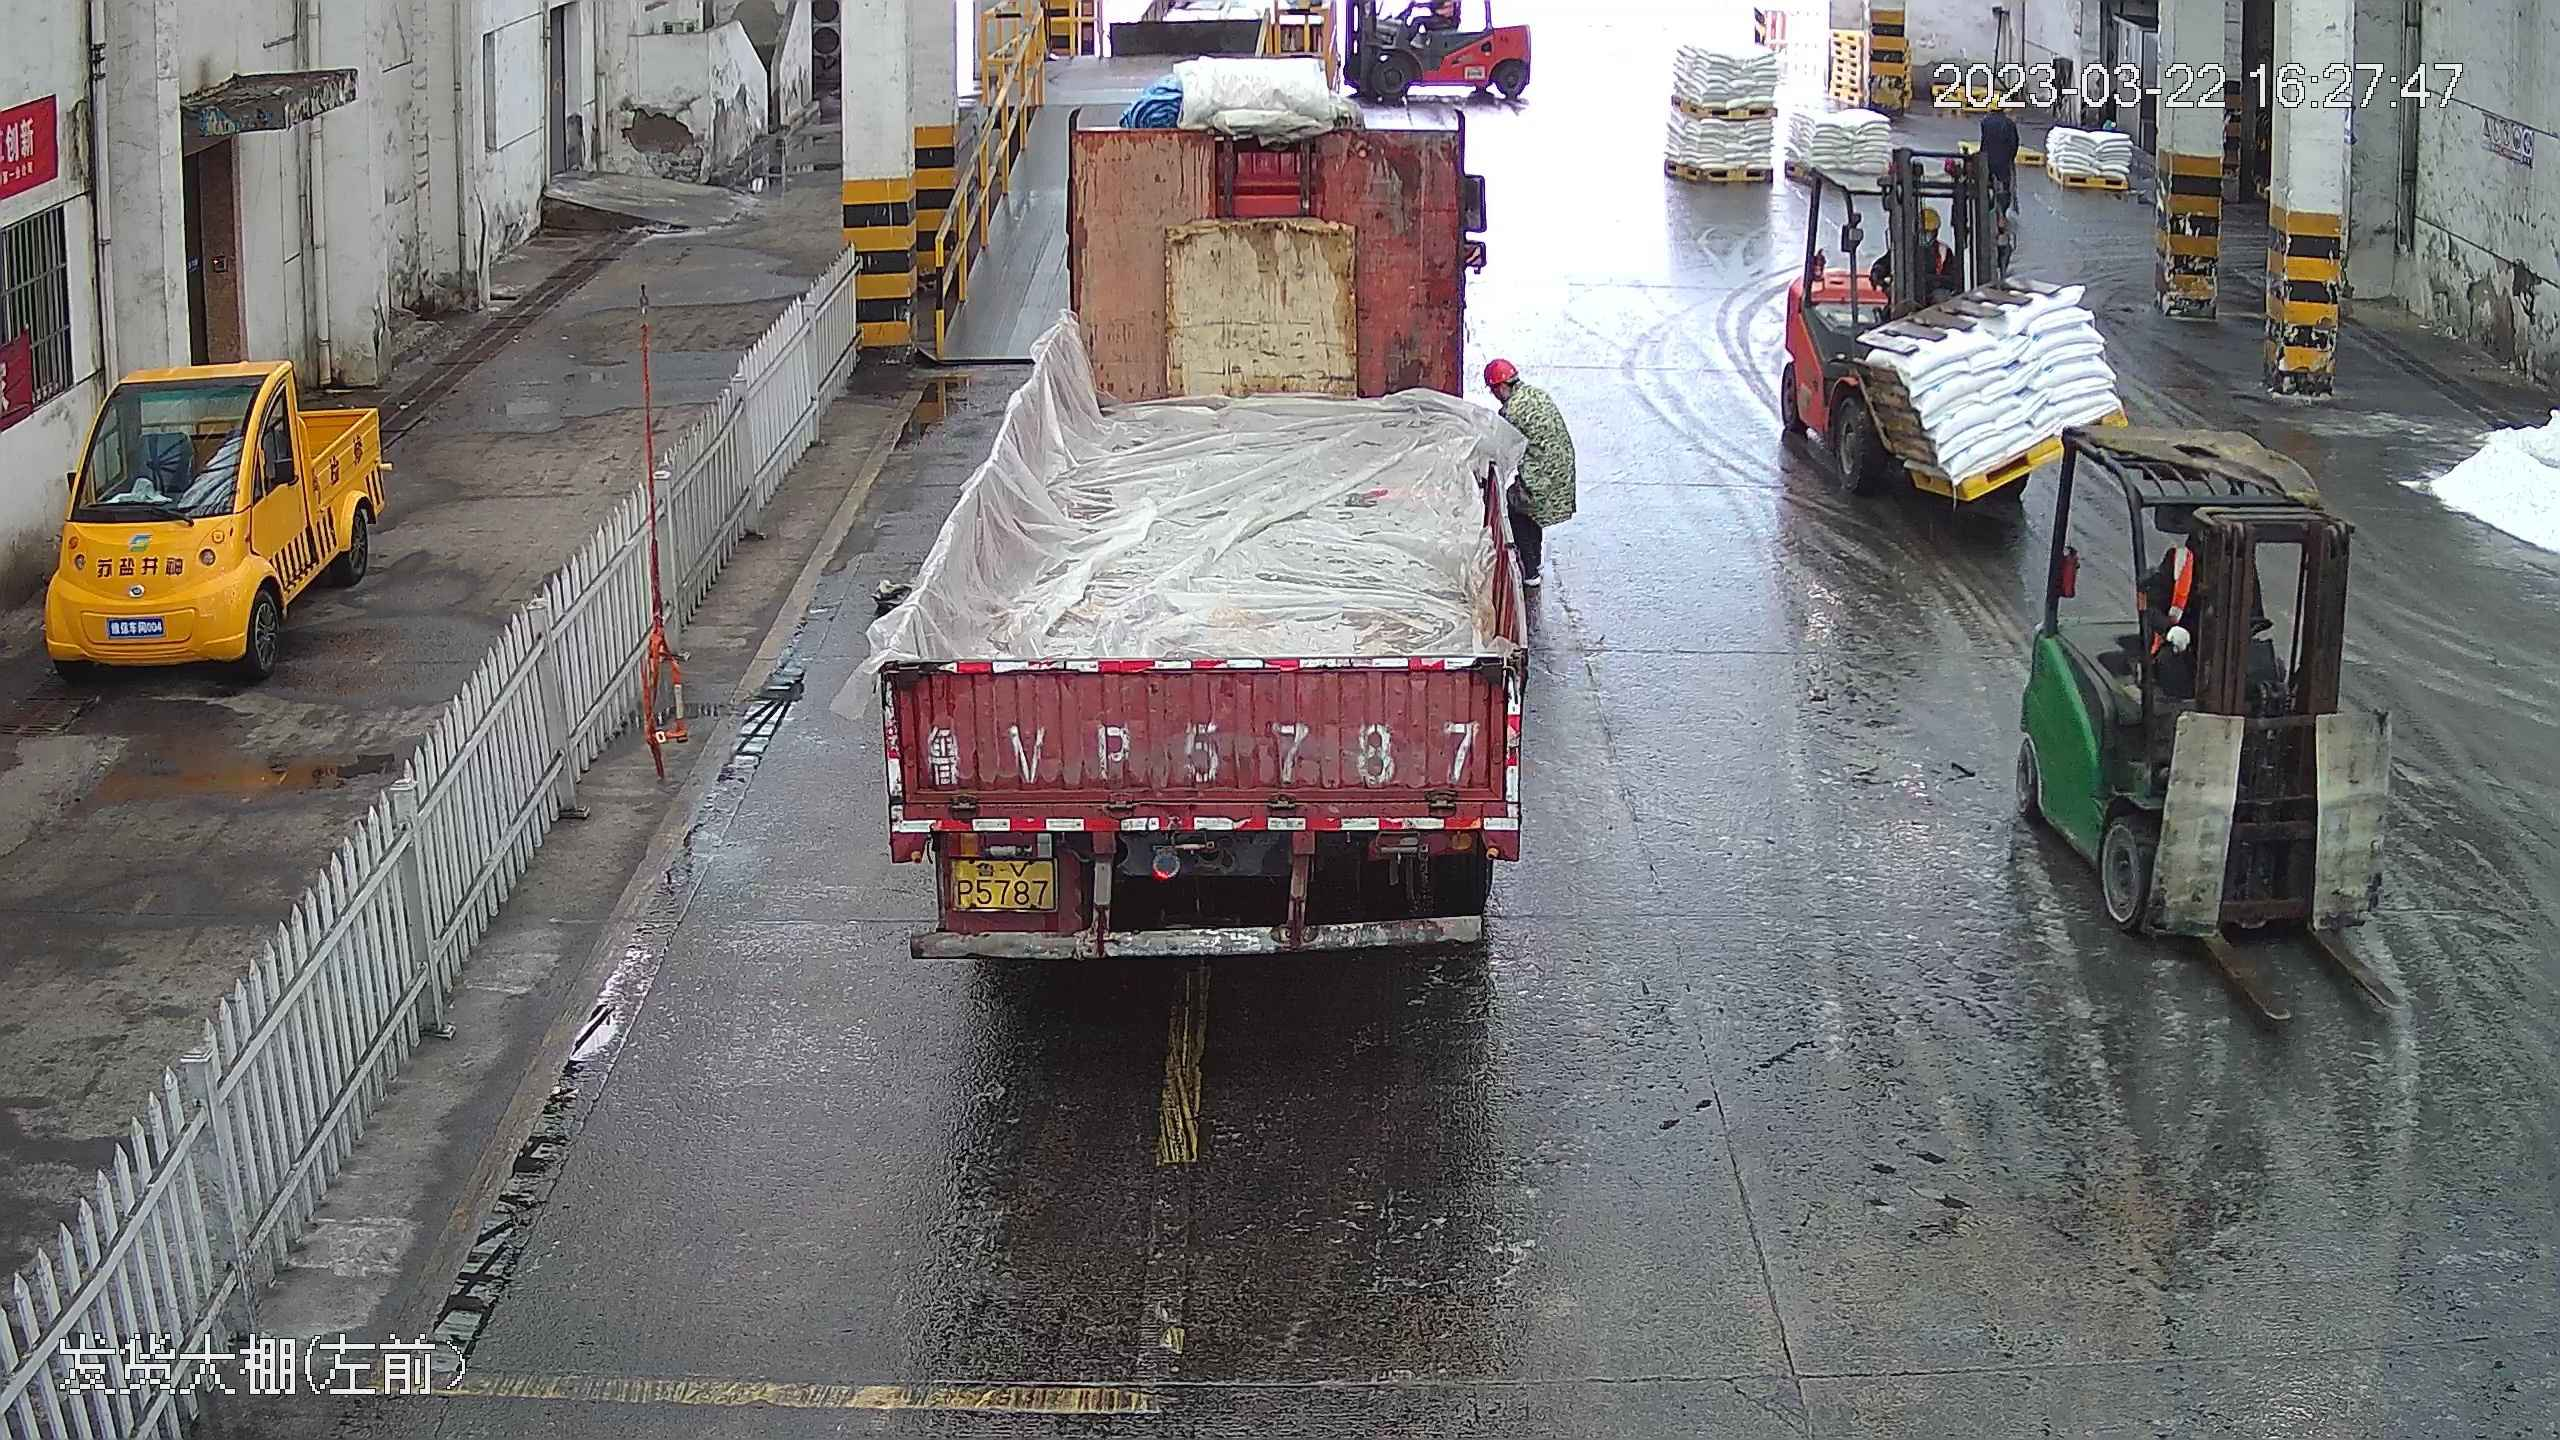head: (1482, 353, 1557, 435), (1904, 203, 1951, 255)
helmet: (1482, 354, 1519, 389), (1916, 206, 1941, 226)
people: (1485, 349, 1579, 668)
truck: (859, 30, 1525, 961)
